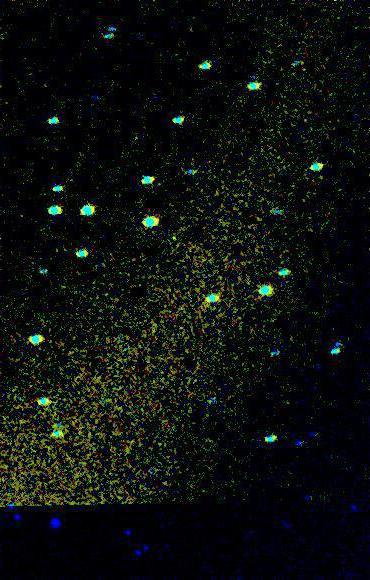star: (163, 227, 193, 257)
